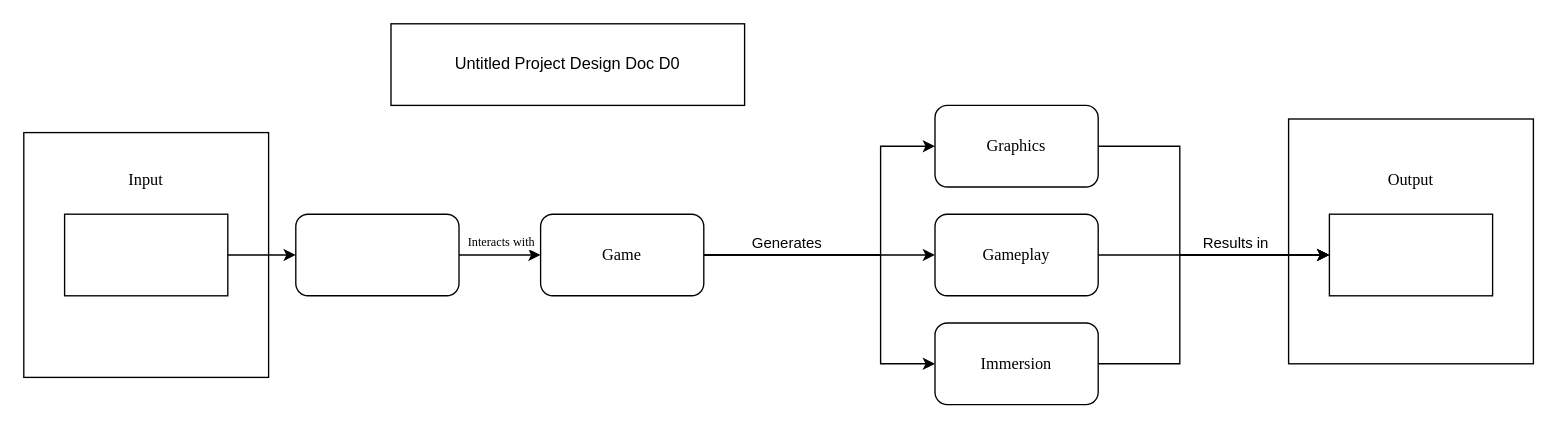
Some shapes in this 1557 by 428 pixel diagram are drawn without their labels. The shapes that lost their labels are listed below. From the top down, each one's centre as x and y in pixels, then its label:
At pixel 145 254: "User".
At pixel 376 254: "Game Controls".
At pixel 1410 254: "Fun!".
